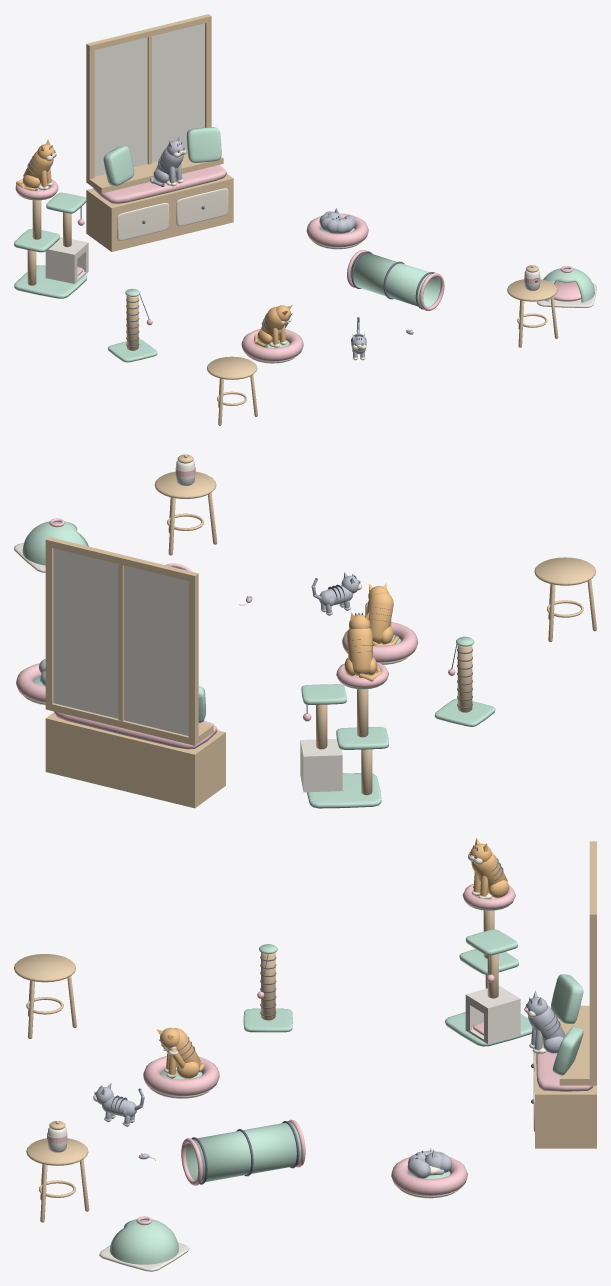
The model's file is companion-animals-and-pet-home-cat-cafe-corner-fef6173a__20684.glb.
3 views of the same model, one above another, from view 1: azimuth 30°, elevation 25°; view 2: azimuth 150°, elevation 25°; view 3: azimuth 270°, elevation 25° (orthographic). The views are drawn at different scales.
Visible parts, largest first — view 1: 000-window-seat/4, 000-window-seat/0, 000-window-seat/1, 005-play-tunnel/0, 002-cat-tree/0, 000-window-seat/5, 000-window-seat/3, 002-cat-tree/2, 013-side-table/0, 011-side-table/0, 007-cushion-bed/1, 009-cushion-bed/1 (+11 smaller); view 2: 000-window-seat/4, 000-window-seat/0, 002-cat-tree/0, 013-side-table/0, 002-cat-tree/2, 011-side-table/0, 003-cat-sitting/0, 002-cat-tree/1, 008-cat-grooming/0, 006-cave-bed/1, 004-scratching-post/0, 007-cushion-bed/1 (+5 smaller); view 3: 000-window-seat/0, 005-play-tunnel/0, 002-cat-tree/0, 002-cat-tree/2, 006-cave-bed/1, 013-side-table/0, 000-window-seat/5, 011-side-table/0, 007-cushion-bed/1, 009-cushion-bed/1, 008-cat-grooming/0, 001-cat-sitting/0 (+10 smaller).
Part boxes in pixels (x1,y1,x2,y2): 000-window-seat/4: [94, 23, 204, 176]; 000-window-seat/0: [86, 14, 233, 251]; 000-window-seat/1: [117, 188, 228, 240]; 005-play-tunnel/0: [350, 252, 440, 306]; 002-cat-tree/0: [14, 192, 86, 298]; 000-window-seat/5: [103, 127, 221, 185]; 000-window-seat/3: [93, 165, 226, 203]; 002-cat-tree/2: [45, 237, 88, 283]; 013-side-table/0: [207, 356, 257, 425]; 011-side-table/0: [507, 279, 558, 347]; 007-cushion-bed/1: [241, 328, 303, 361]; 009-cushion-bed/1: [306, 213, 368, 247]; 000-window-seat/4: [53, 548, 188, 735]; 000-window-seat/0: [45, 537, 225, 808]; 002-cat-tree/0: [301, 682, 388, 808]; 013-side-table/0: [534, 557, 596, 641]; 002-cat-tree/2: [300, 739, 342, 792]; 011-side-table/0: [154, 471, 217, 555]; 003-cat-sitting/0: [344, 612, 381, 681]; 002-cat-tree/1: [316, 689, 372, 795]; 008-cat-grooming/0: [365, 583, 398, 645]; 006-cave-bed/1: [22, 521, 88, 565]; 004-scratching-post/0: [434, 636, 495, 726]; 007-cushion-bed/1: [342, 622, 418, 662]; 000-window-seat/0: [535, 841, 596, 1148]; 005-play-tunnel/0: [186, 1122, 301, 1182]; 002-cat-tree/0: [445, 903, 532, 1046]; 002-cat-tree/2: [465, 985, 520, 1044]; 006-cave-bed/1: [109, 1219, 178, 1264]; 013-side-table/0: [14, 954, 76, 1038]; 000-window-seat/5: [551, 974, 583, 1075]; 011-side-table/0: [26, 1138, 89, 1222]; 007-cushion-bed/1: [143, 1056, 219, 1096]; 009-cushion-bed/1: [391, 1156, 467, 1195]; 008-cat-grooming/0: [156, 1027, 204, 1078]; 001-cat-sitting/0: [526, 990, 565, 1053].
Size of the model in its own units: 5.08 by 2.08 by 4.7.
